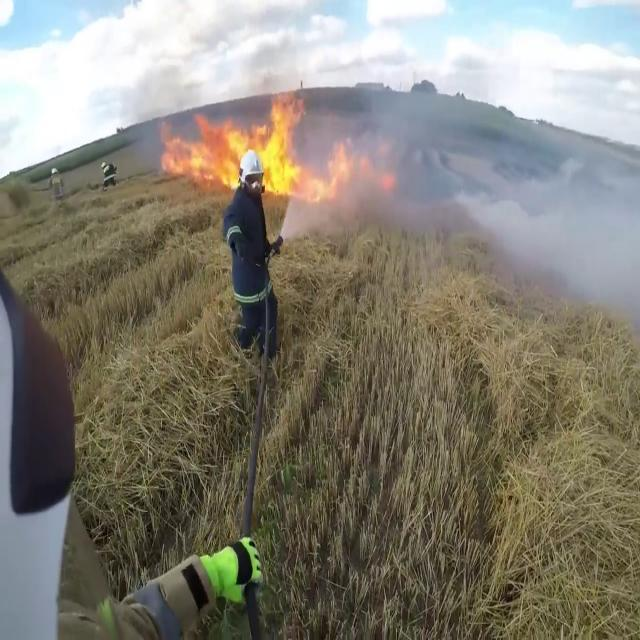Fire: (173, 84, 309, 195), (298, 125, 371, 203)
Smoke: (369, 48, 640, 344)
